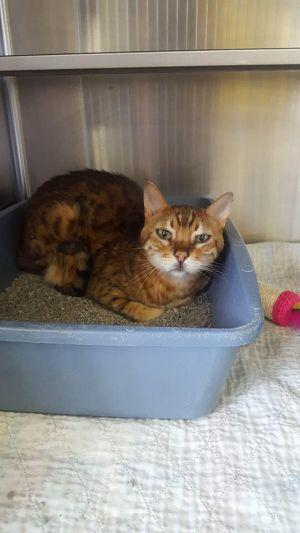bengal: (131, 176, 241, 289)
